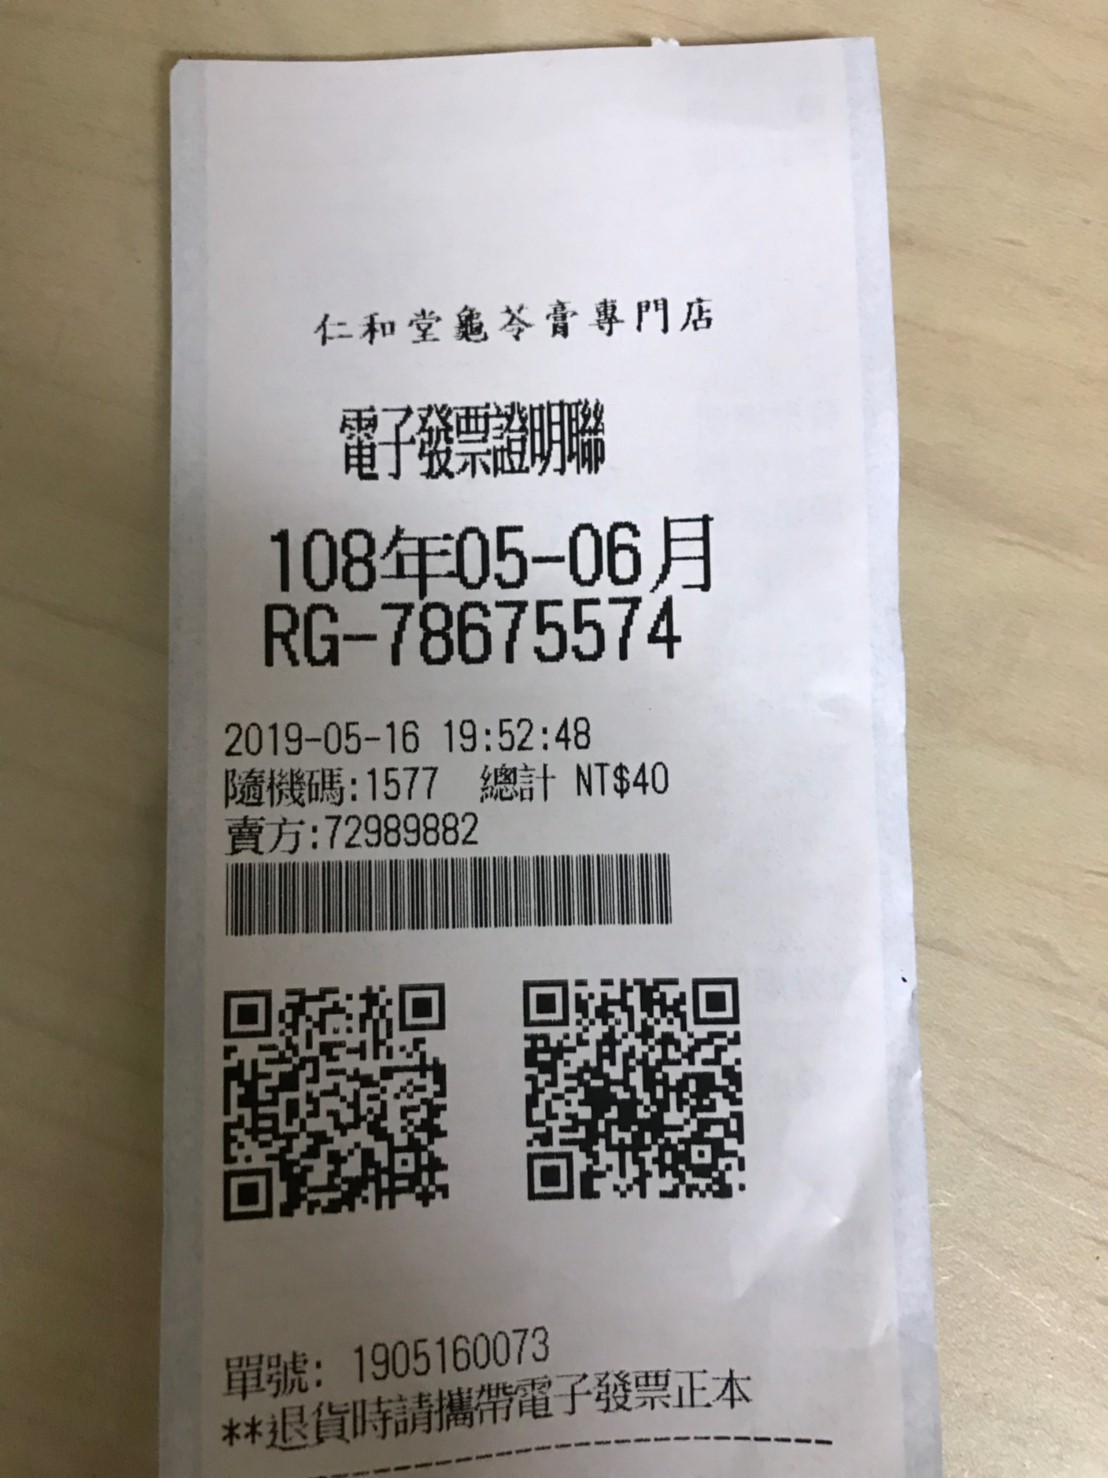Date_New: (260, 510, 713, 597)
Number_New: (376, 591, 683, 667)
